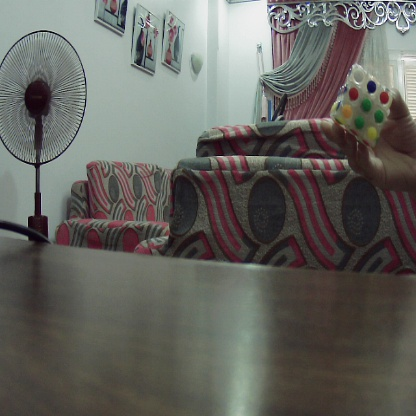Rubix Cube: (334, 64, 394, 141)
